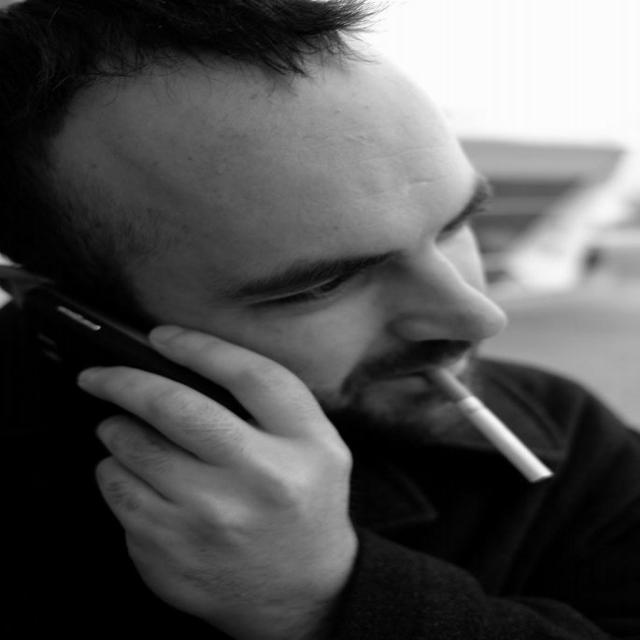Сигарета: (433, 363, 552, 482)
Тело: (7, 3, 618, 630)
